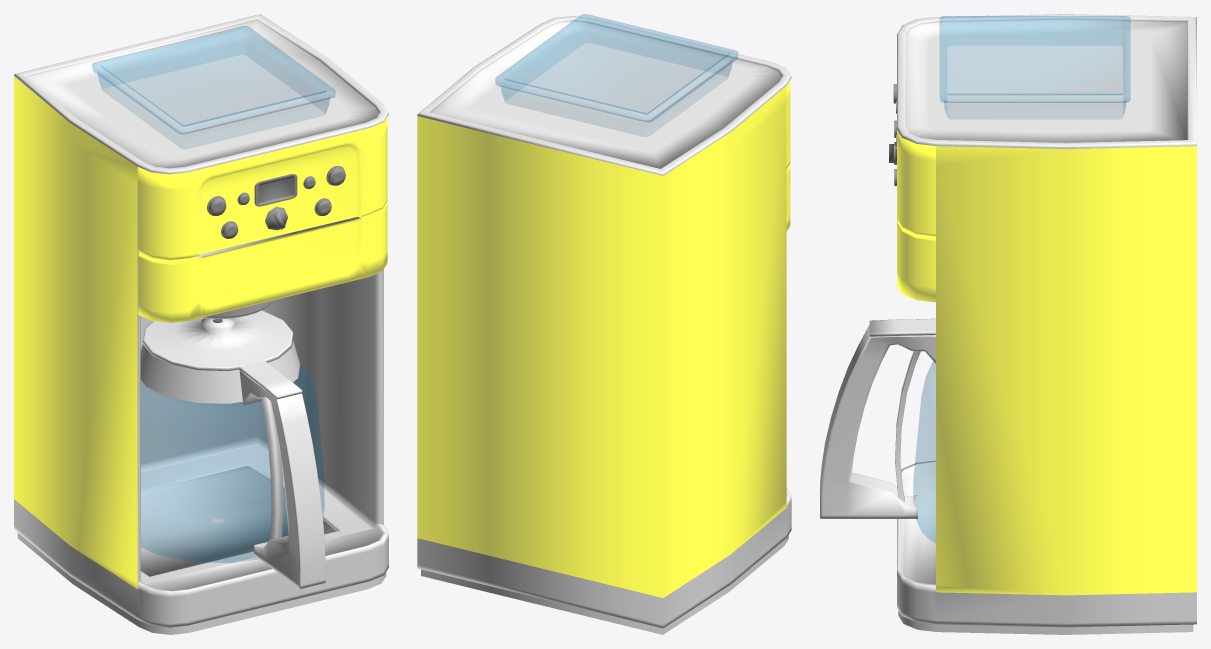
3 views of the same model, side by side, from view 1: azimuth 30°, elevation 25°; view 2: azimuth 150°, elevation 25°; view 3: azimuth 270°, elevation 25° (orthographic). The views are drawn at different scales.
Visible parts, largest first — view 1: Cube; view 2: Cube; view 3: Cube.
Boxes of the visible parts, <box> form: Cube: <box>14,14,388,634</box>; Cube: <box>417,14,791,634</box>; Cube: <box>820,14,1196,634</box>.
Size of the model in its own units: 0.4041 by 0.7281 by 0.4845.
